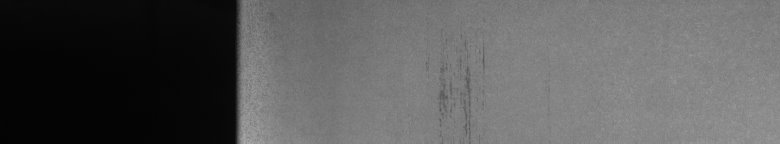ka: (436, 44, 485, 136)
